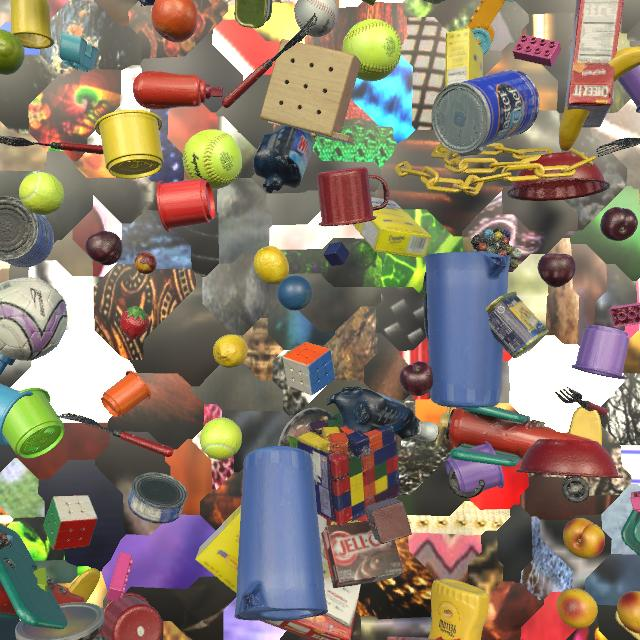ycb_002_master_chef_can: (431, 70, 540, 154), (0, 196, 54, 267)
ycb_003_cracker_box: (259, 514, 368, 640), (564, 0, 625, 128)
ycb_004_sugar_box: (445, 27, 483, 157), (353, 197, 432, 258), (195, 505, 241, 593)
ycb_006_mustard_bottle: (428, 579, 489, 640)
ycb_007_tuna_fish_can: (128, 472, 188, 524)
ycb_008_pudding_box: (321, 521, 404, 588)
ycb_009_gelatin_box: (387, 637, 434, 640)
ycb_010_potted_meat_can: (486, 291, 549, 358), (234, 0, 273, 28)
ycb_011_banana: (559, 47, 640, 151)
ycb_012_strawberry: (120, 306, 150, 340)
ycb_014_lemon: (254, 246, 289, 285), (213, 334, 248, 368)
ycb_015_peach: (563, 518, 605, 559), (557, 588, 598, 629), (617, 591, 640, 634)
ycb_016_pear: (0, 29, 25, 75)
ycb_017_orange: (151, 0, 198, 43)
ycb_018_plum: (85, 231, 123, 266), (600, 207, 638, 241), (538, 253, 576, 287), (399, 361, 433, 396)
